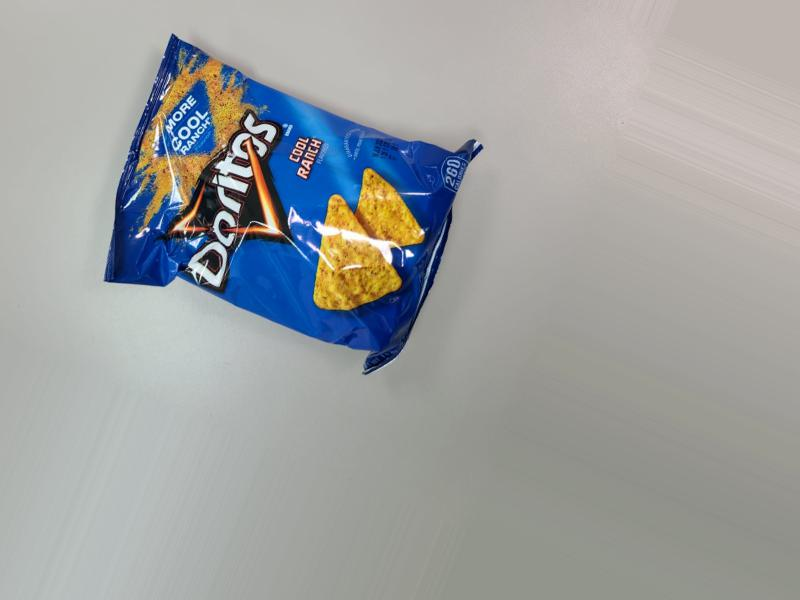doritos: (121, 71, 467, 362)
